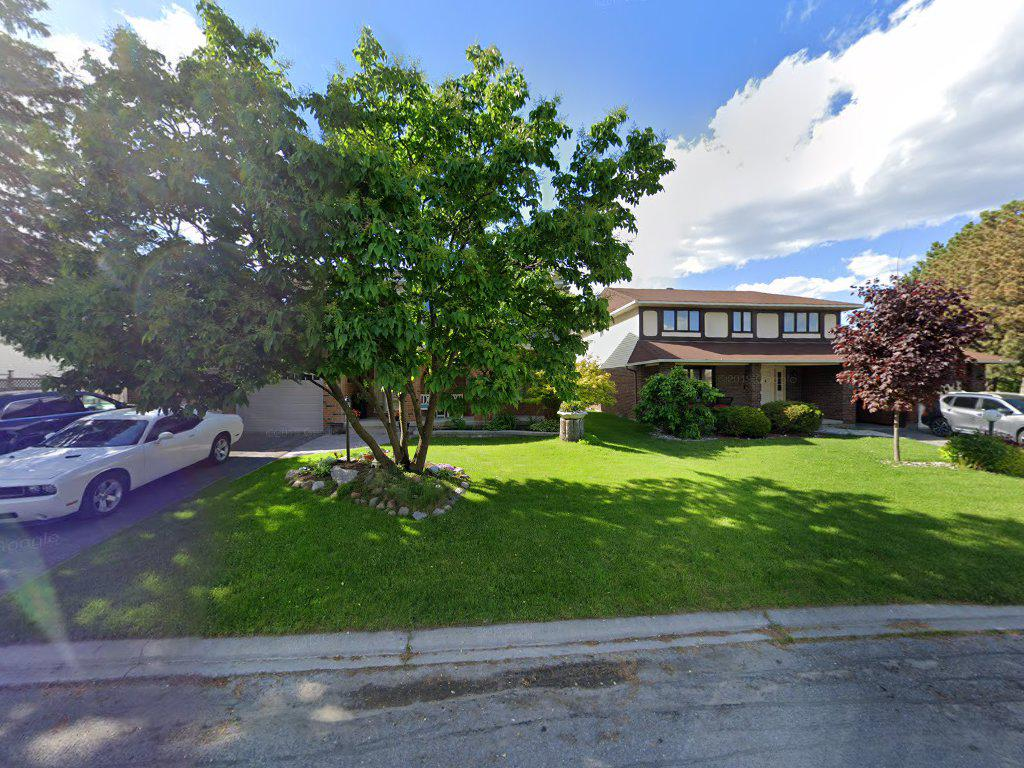trunk: (337, 396, 449, 493)
